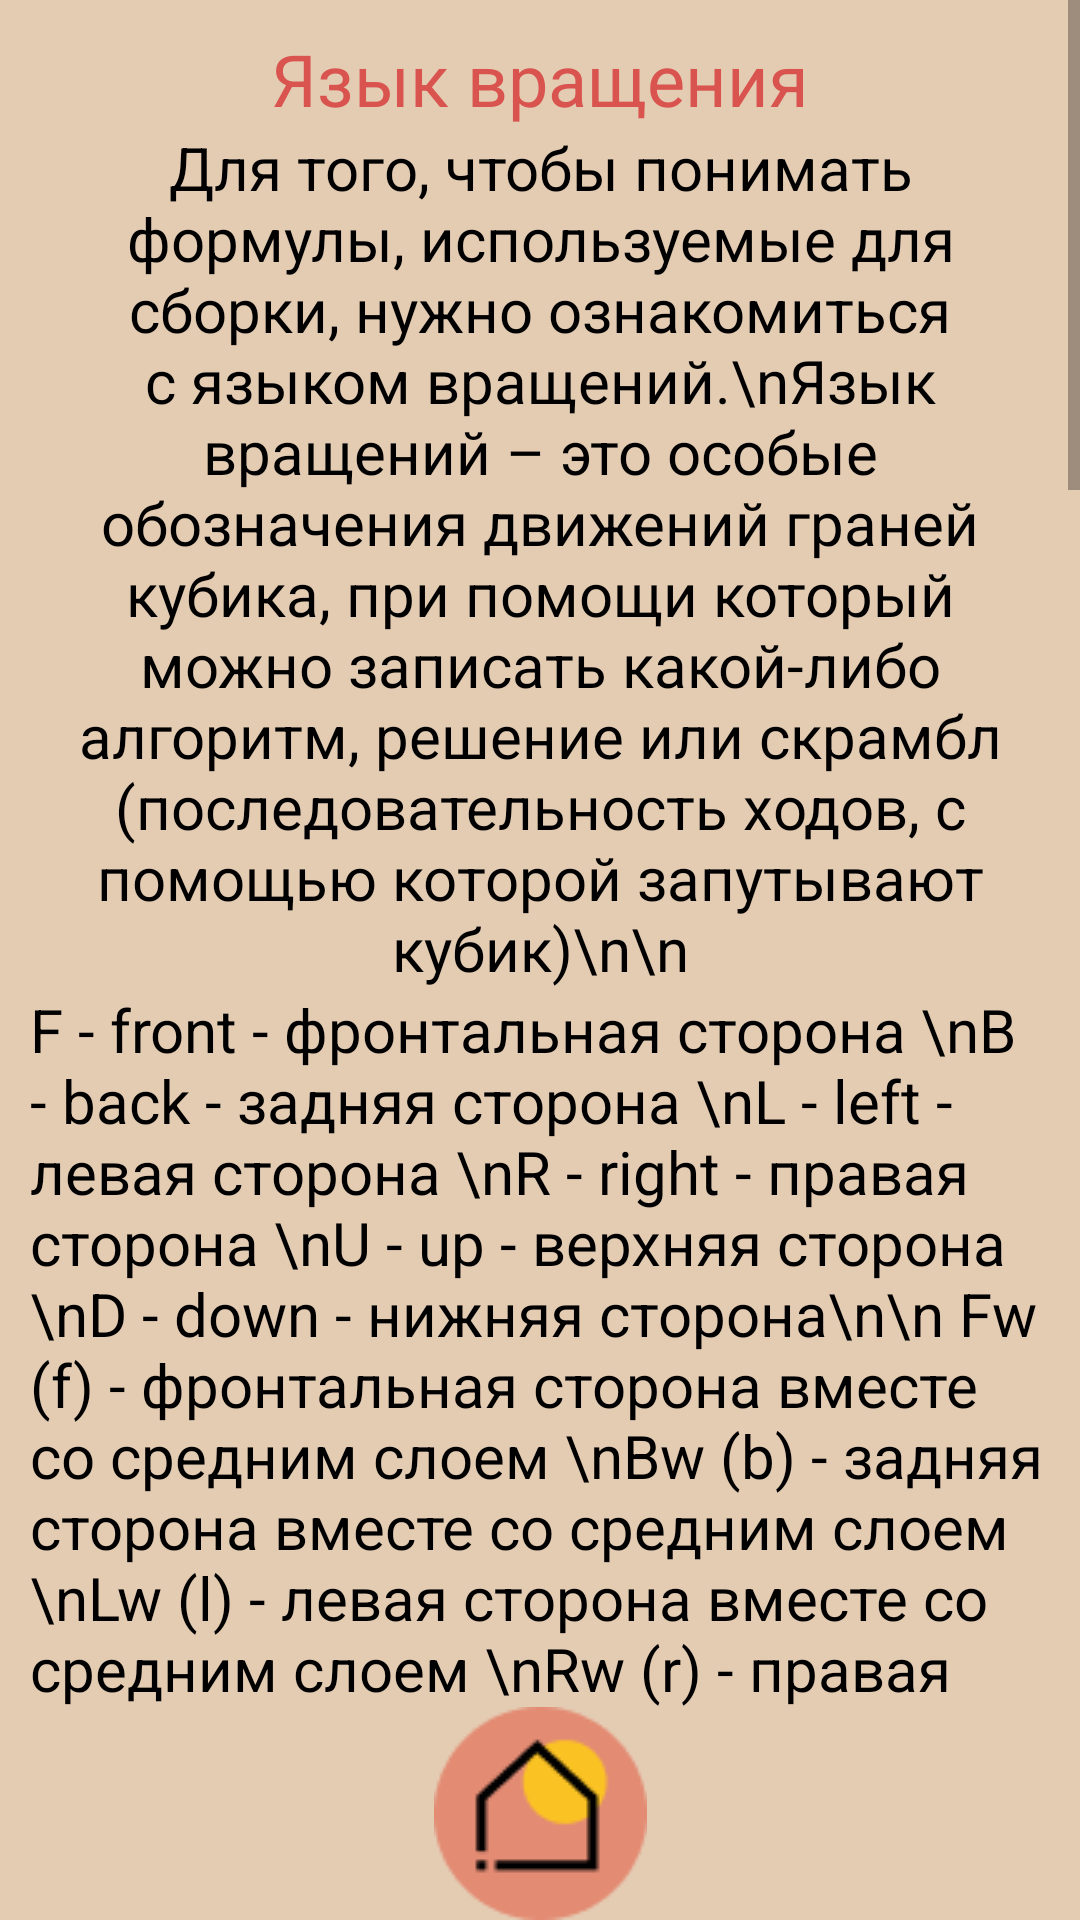

Screen size 1080px x 1920px. Icon name, then its box in pixels as (x1, y1, x2, y2):
home: (434, 1707, 647, 1920)
